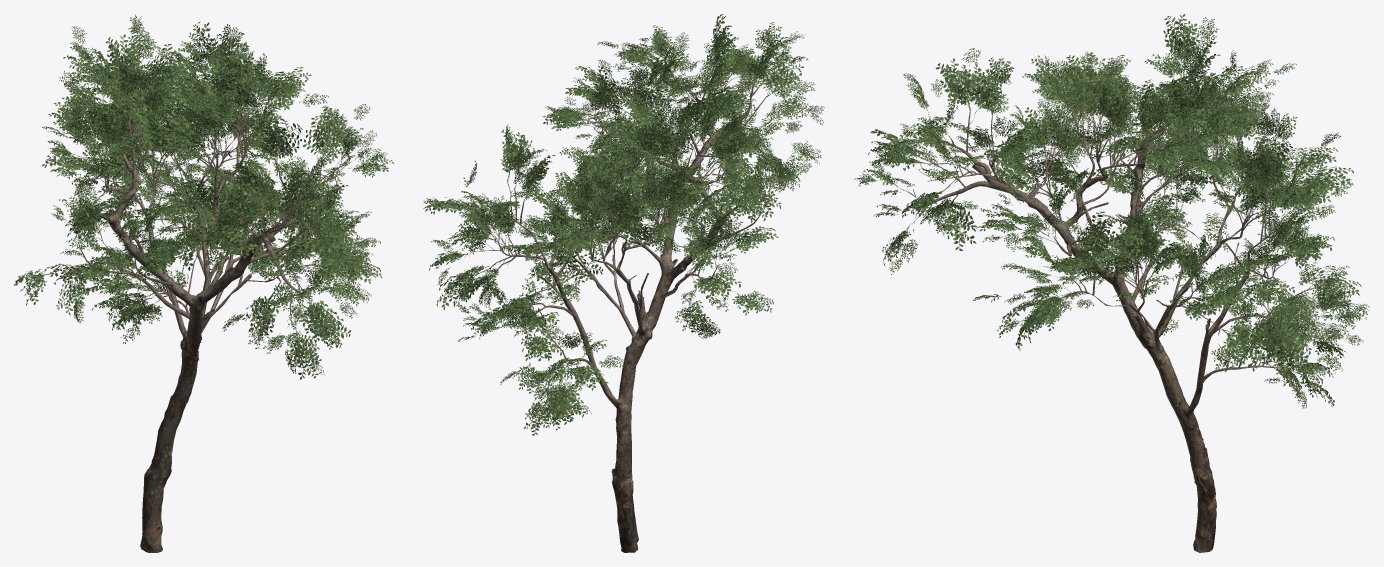
File: naturalTreeDense.glb
3 renders of one model, left to right at view 1: azimuth 30°, elevation 25°; view 2: azimuth 150°, elevation 25°; view 3: azimuth 270°, elevation 25°, orthographic. The views are drawn at different scales.
Visible parts, largest first — view 1: tree_small_02_LOD0; view 2: tree_small_02_LOD0; view 3: tree_small_02_LOD0.
Part boxes in pixels (x1,y1,x2,y2): tree_small_02_LOD0: [14, 14, 393, 552]; tree_small_02_LOD0: [423, 14, 824, 552]; tree_small_02_LOD0: [853, 14, 1369, 552].
Bounding box in the file's own units: 2.92 × 4.56 × 4.29.
3 materials, 3 textured.
